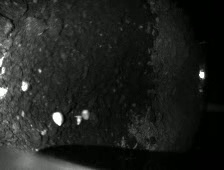corn: (50, 109, 65, 127), (18, 77, 31, 92), (80, 108, 92, 122), (72, 113, 83, 128)
